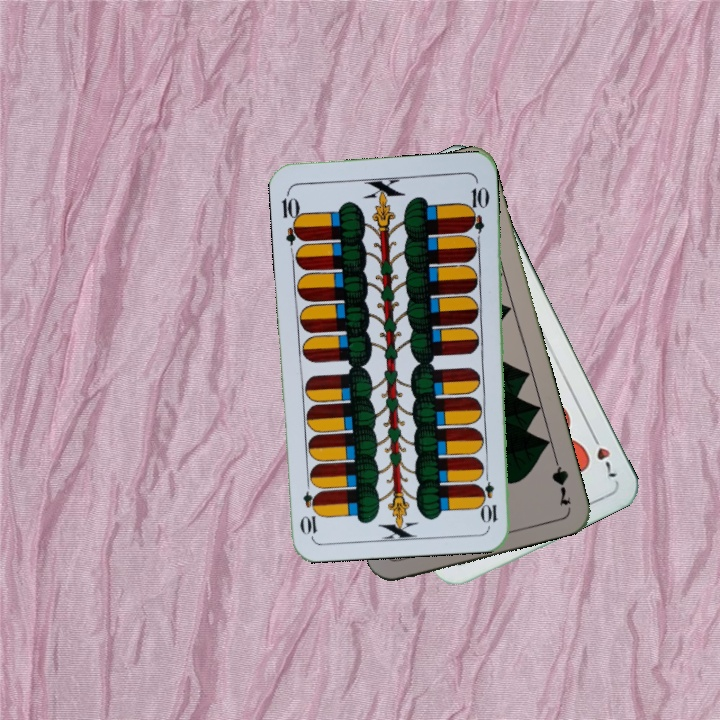E10: (278, 188, 306, 247), (479, 466, 500, 526)
G7: (547, 450, 574, 509)
H7: (587, 428, 620, 483)
